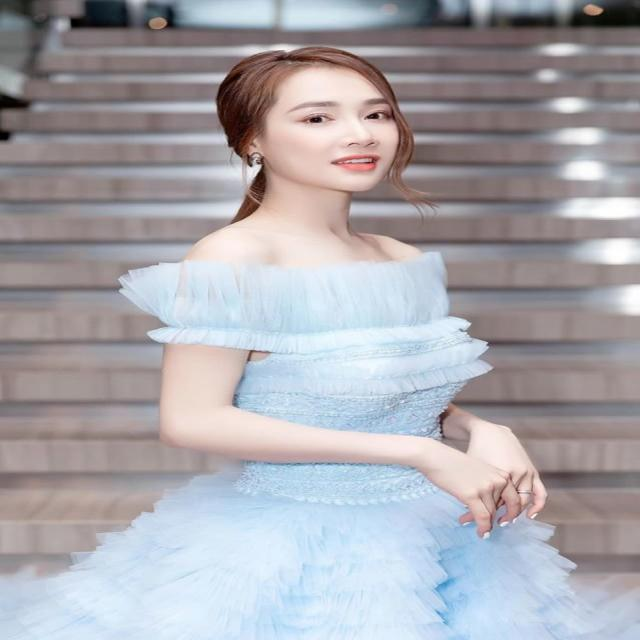clothes: (112, 229, 571, 639)
